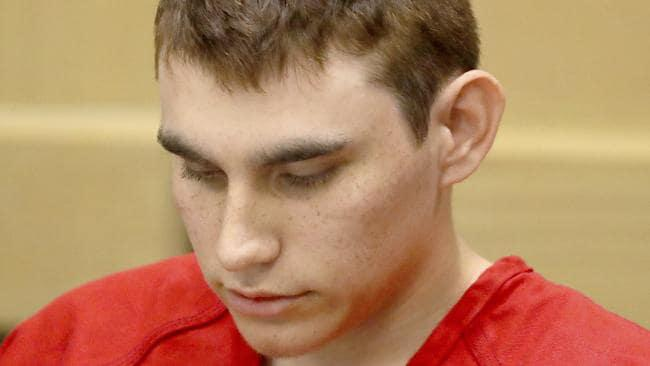Sober: (158, 66, 388, 340)
